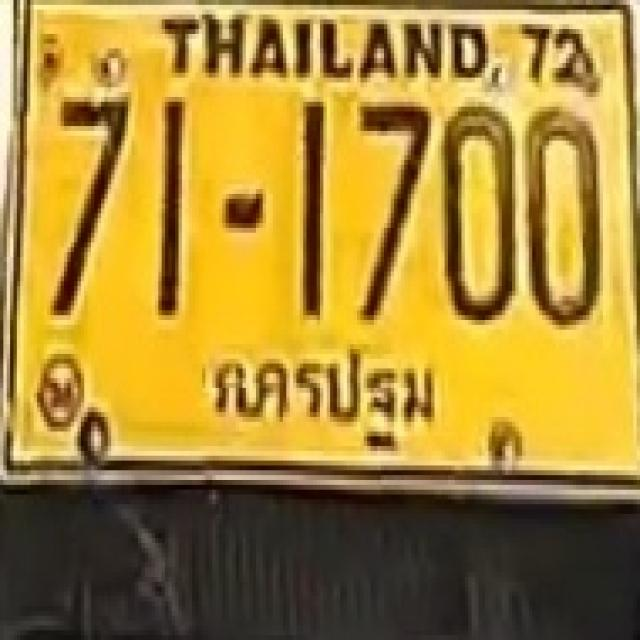0: (522, 102, 600, 320), (441, 100, 512, 318)
1: (158, 95, 182, 312), (300, 99, 320, 313)
7: (54, 90, 128, 312), (357, 97, 428, 315)
NPT: (202, 326, 452, 456)
